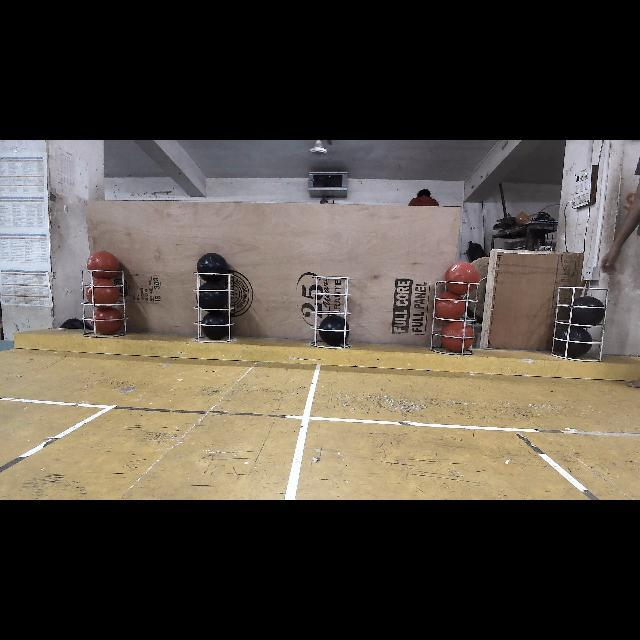P: (556, 327, 592, 358), (570, 296, 606, 326), (196, 252, 229, 281), (319, 315, 349, 345), (198, 282, 228, 312), (202, 312, 230, 338)
R: (445, 262, 480, 295), (86, 278, 120, 308), (442, 322, 474, 352), (433, 292, 465, 322), (86, 251, 120, 279), (90, 307, 122, 333)
S: (548, 282, 610, 368), (430, 278, 480, 358), (78, 266, 132, 338), (189, 267, 237, 347), (308, 274, 354, 354)
